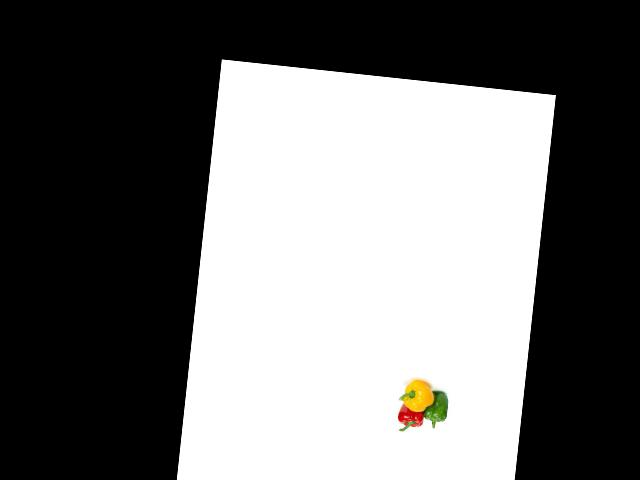bell_pepper: (391, 398, 429, 437)
